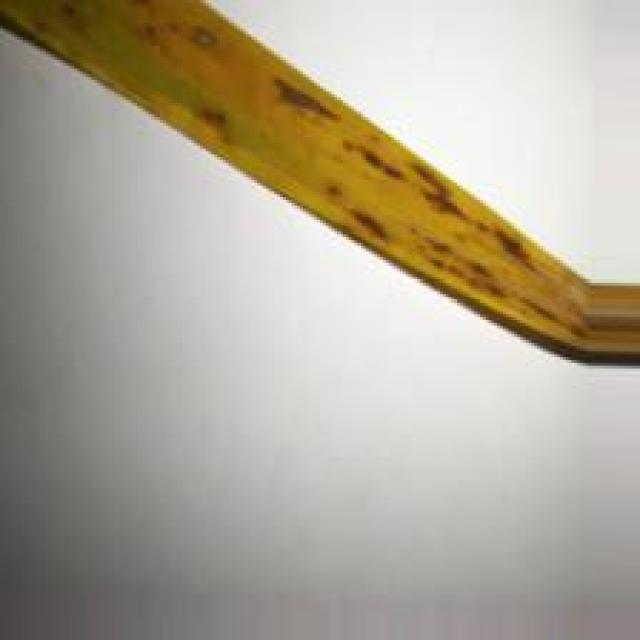Narrow_Brown_Leaf_Spot: (2, 0, 590, 353)
